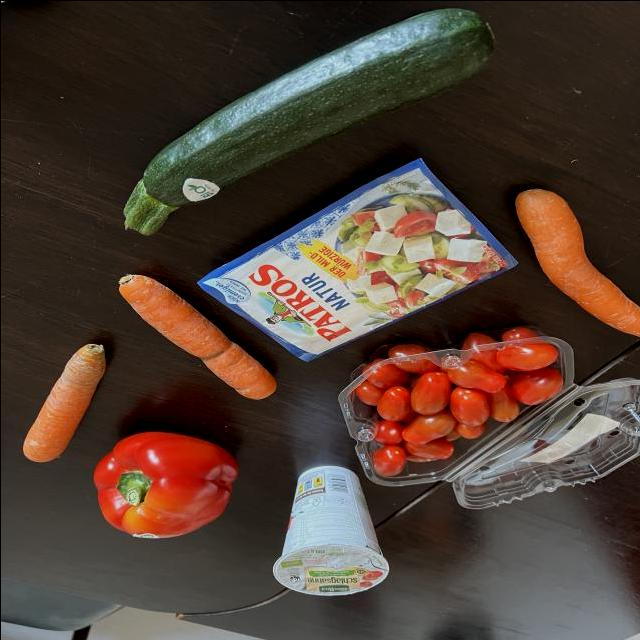carrot: (92, 264, 280, 410), (493, 174, 640, 349), (1, 324, 111, 472)
tomato: (328, 341, 600, 488)
zucchini: (94, 7, 496, 237)
